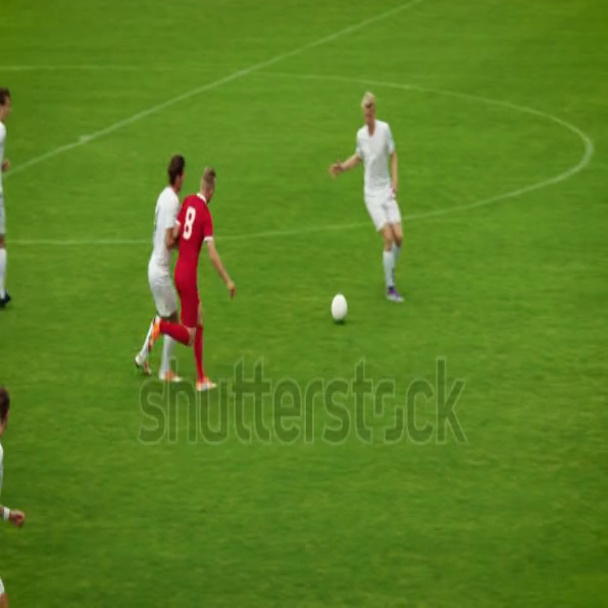ball: (332, 291, 350, 327)
